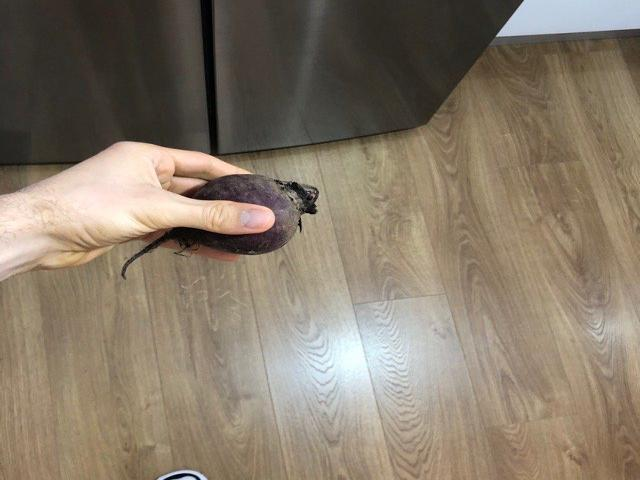beet: (123, 173, 320, 280)
